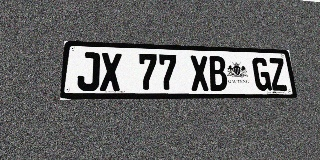7: (138, 54, 158, 91), (158, 54, 178, 91)
B: (208, 56, 228, 91)
G: (252, 57, 272, 91)
J: (77, 52, 100, 91)
X: (100, 53, 121, 91), (189, 55, 210, 91)
Z: (268, 58, 288, 91)
